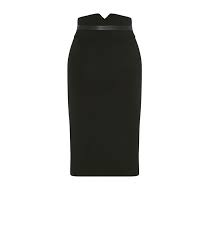F_tailored skirt: (60, 11, 153, 184)
